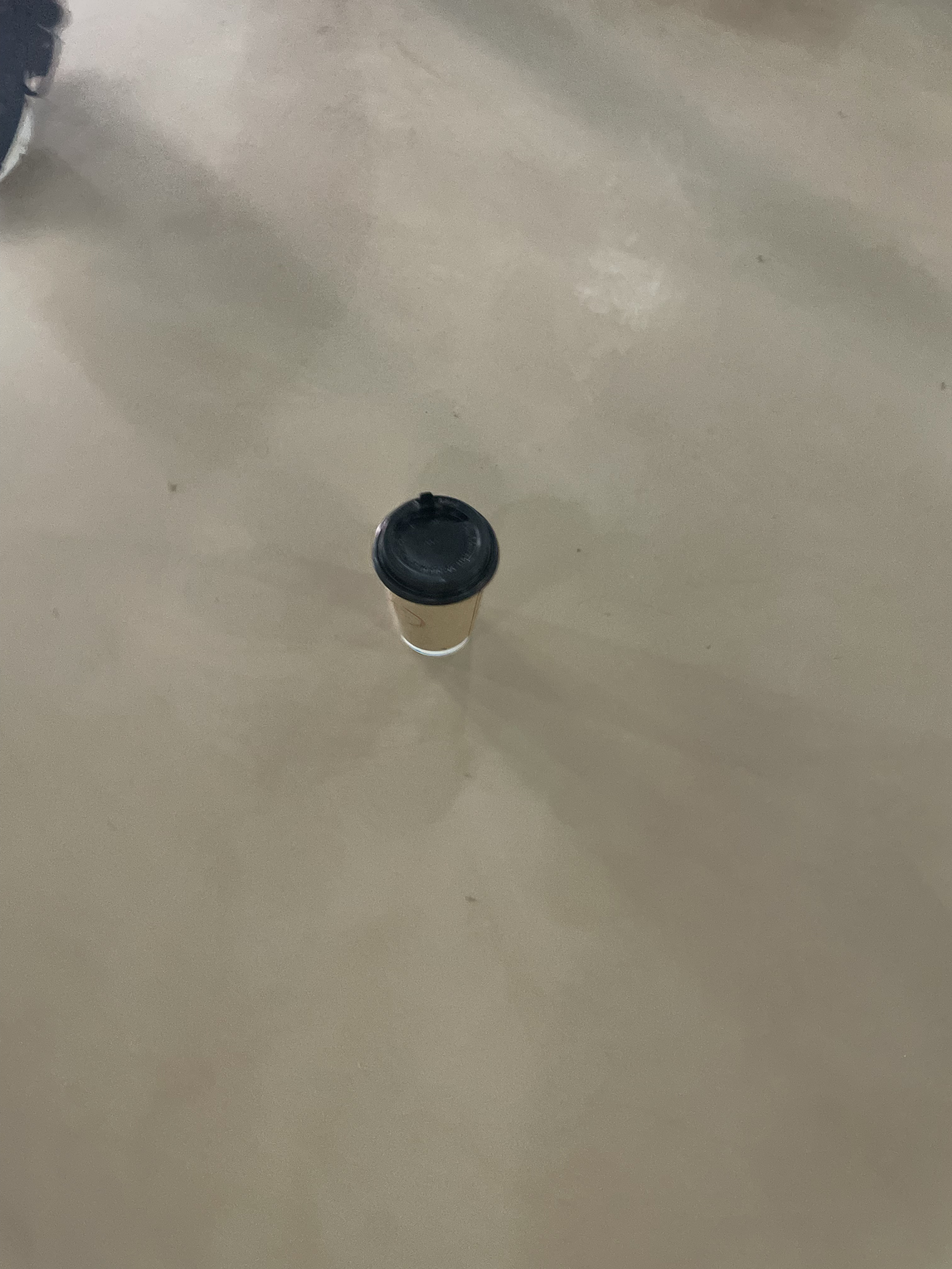cup: (371, 493, 500, 655)
